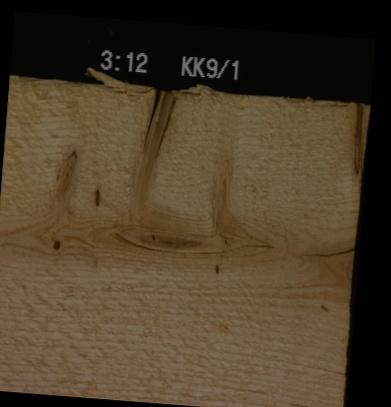dry_knot: (128, 87, 170, 214), (351, 102, 361, 174), (51, 237, 61, 251)
split: (297, 243, 352, 259), (237, 241, 277, 249)
